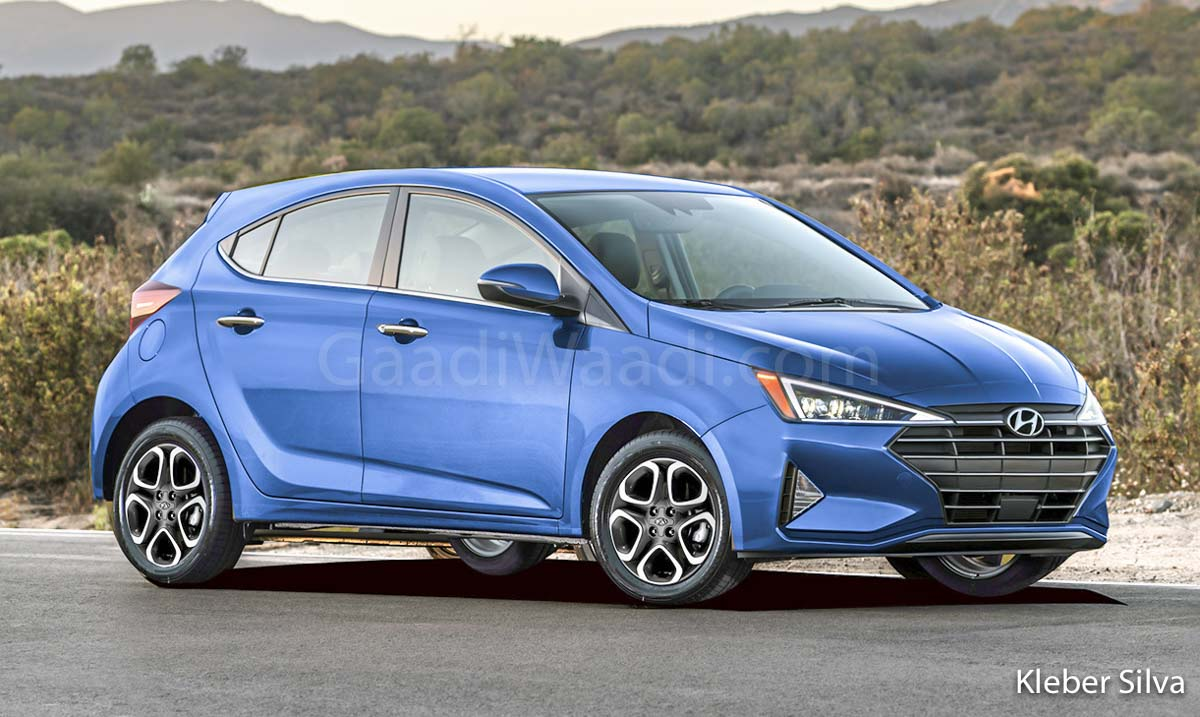i10: (80, 154, 1148, 645)
